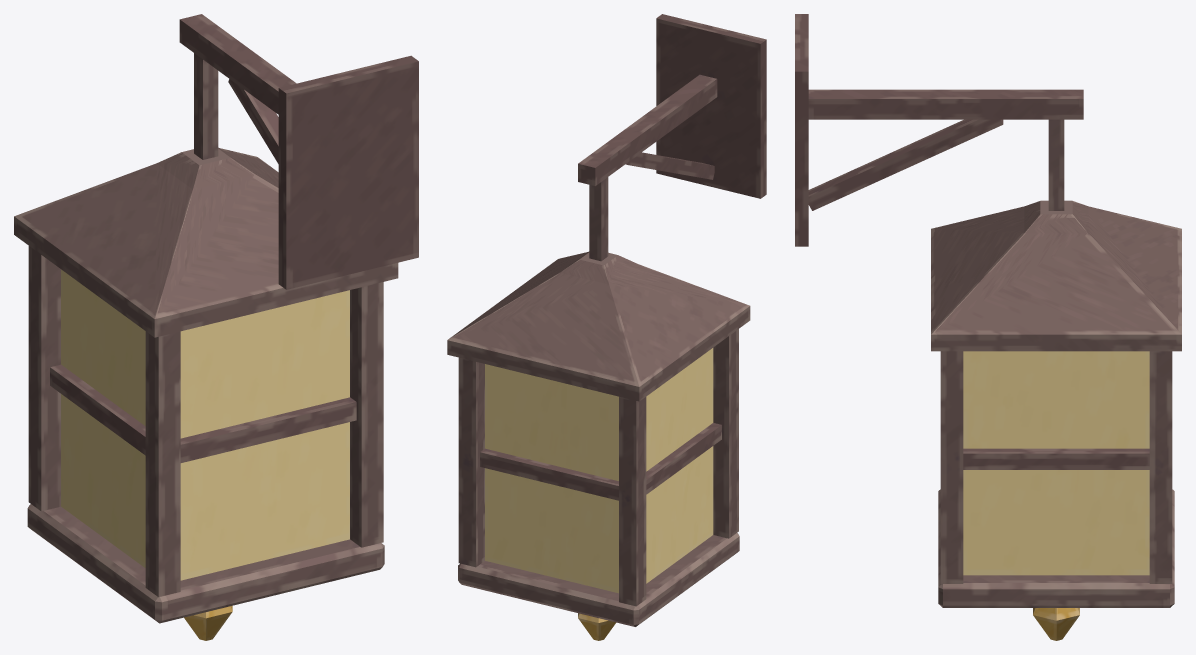
File: lantern_wall.fbx
3 views of the same model, side by side, from view 1: azimuth 30°, elevation 25°; view 2: azimuth 150°, elevation 25°; view 3: azimuth 270°, elevation 25° (orthographic). The views are drawn at different scales.
Parts seen in each view (by area): view 1: lantern_wall; view 2: lantern_wall; view 3: lantern_wall.
Part boxes in pixels (left/top/right/bottom): lantern_wall: left=14, top=14, right=418, bottom=640; lantern_wall: left=447, top=14, right=766, bottom=640; lantern_wall: left=795, top=14, right=1181, bottom=640.
Bounding box in the file's own units: 1.1 × 2.89 × 1.7.
1 material, 1 textured.
